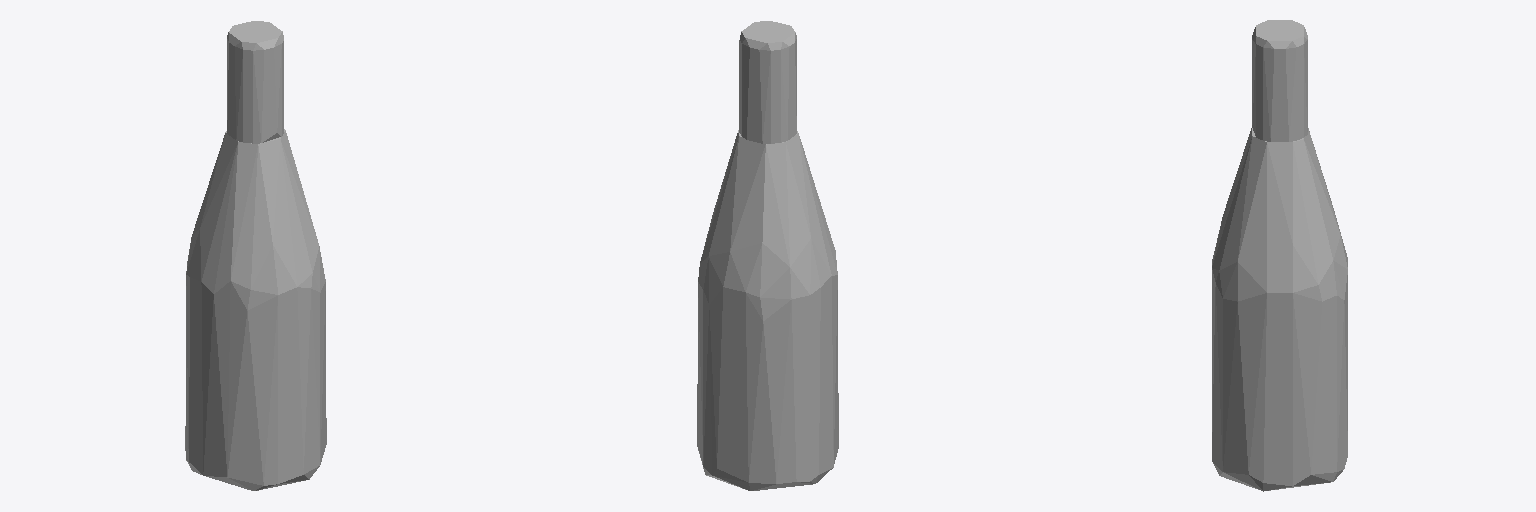
The robot description file, URDF, robot "root":
<robot name="root">
  <link name="link_437678d4bc6be981c8724d5673a063a6_convex_piece_0">
    <inertial>
      <origin rpy="0 0 0" xyz="0 0 0"/>
      <mass value="1.49E-04"/>
      <inertia ixx="2.06E-07" ixy="-7.44E-11" ixz="-1.53E-10" iyy="2.06E-07" iyz="-2.41E-10" izz="3.74E-08"/>
    </inertial>
    <visual>
      <origin rpy="0 0 0" xyz="0 0 0"/>
      <geometry>
        <mesh filename="437678d4bc6be981c8724d5673a063a6_convex_piece_0.obj" scale="1.0000E+00"/>
      </geometry>
      <material name="">
        <color rgba="7.50E-01 7.50E-01 7.50E-01 1"/>
      </material>
    </visual>
    <collision>
      <origin rpy="0 0 0" xyz="0 0 0"/>
      <geometry>
        <mesh filename="437678d4bc6be981c8724d5673a063a6_convex_piece_0.obj" scale="1.0000E+00"/>
      </geometry>
    </collision>
  </link>
  <link name="link_437678d4bc6be981c8724d5673a063a6_convex_piece_1">
    <inertial>
      <origin rpy="0 0 0" xyz="0 0 0"/>
      <mass value="9.17E-06"/>
      <inertia ixx="3.16E-08" ixy="5.06E-14" ixz="-2.30E-11" iyy="3.16E-08" iyz="-2.21E-11" izz="4.24E-10"/>
    </inertial>
    <visual>
      <origin rpy="0 0 0" xyz="0 0 0"/>
      <geometry>
        <mesh filename="437678d4bc6be981c8724d5673a063a6_convex_piece_1.obj" scale="1.0000E+00"/>
      </geometry>
      <material name="">
        <color rgba="7.50E-01 7.50E-01 7.50E-01 1"/>
      </material>
    </visual>
    <collision>
      <origin rpy="0 0 0" xyz="0 0 0"/>
      <geometry>
        <mesh filename="437678d4bc6be981c8724d5673a063a6_convex_piece_1.obj" scale="1.0000E+00"/>
      </geometry>
    </collision>
  </link>
  <joint name="link_437678d4bc6be981c8724d5673a063a6_convex_piece_1_joint" type="fixed">
    <origin rpy="0 0 0" xyz="0 0 0"/>
    <parent link="link_437678d4bc6be981c8724d5673a063a6_convex_piece_0"/>
    <child link="link_437678d4bc6be981c8724d5673a063a6_convex_piece_1"/>
  </joint>
</robot>

--- Facts derived from the render (not from the file) ---
Views: 3 orthographic renders of the robot side by side, from view 1: azimuth 30°, elevation 25°; view 2: azimuth 150°, elevation 25°; view 3: azimuth 270°, elevation 25°.
Model root with 2 links and 1 joints (1 fixed), rooted at link_437678d4bc6be981c8724d5673a063a6_convex_piece_0, posed every joint at zero.
Links seen in each view (by area): view 1: link_437678d4bc6be981c8724d5673a063a6_convex_piece_0, link_437678d4bc6be981c8724d5673a063a6_convex_piece_1; view 2: link_437678d4bc6be981c8724d5673a063a6_convex_piece_0, link_437678d4bc6be981c8724d5673a063a6_convex_piece_1; view 3: link_437678d4bc6be981c8724d5673a063a6_convex_piece_0, link_437678d4bc6be981c8724d5673a063a6_convex_piece_1.
Boxes of the visible links, x1,y1,x2,y2 form: link_437678d4bc6be981c8724d5673a063a6_convex_piece_0: (185, 129, 326, 490); link_437678d4bc6be981c8724d5673a063a6_convex_piece_1: (227, 21, 283, 143); link_437678d4bc6be981c8724d5673a063a6_convex_piece_0: (697, 130, 838, 490); link_437678d4bc6be981c8724d5673a063a6_convex_piece_1: (739, 21, 796, 143); link_437678d4bc6be981c8724d5673a063a6_convex_piece_0: (1212, 128, 1347, 491); link_437678d4bc6be981c8724d5673a063a6_convex_piece_1: (1252, 20, 1307, 141).
Bounding box of the posed robot: 0.0462 × 0.0462 × 0.1622 m (x, y, z).
2 mesh visuals loaded from 2 distinct referenced files (2 OBJ).